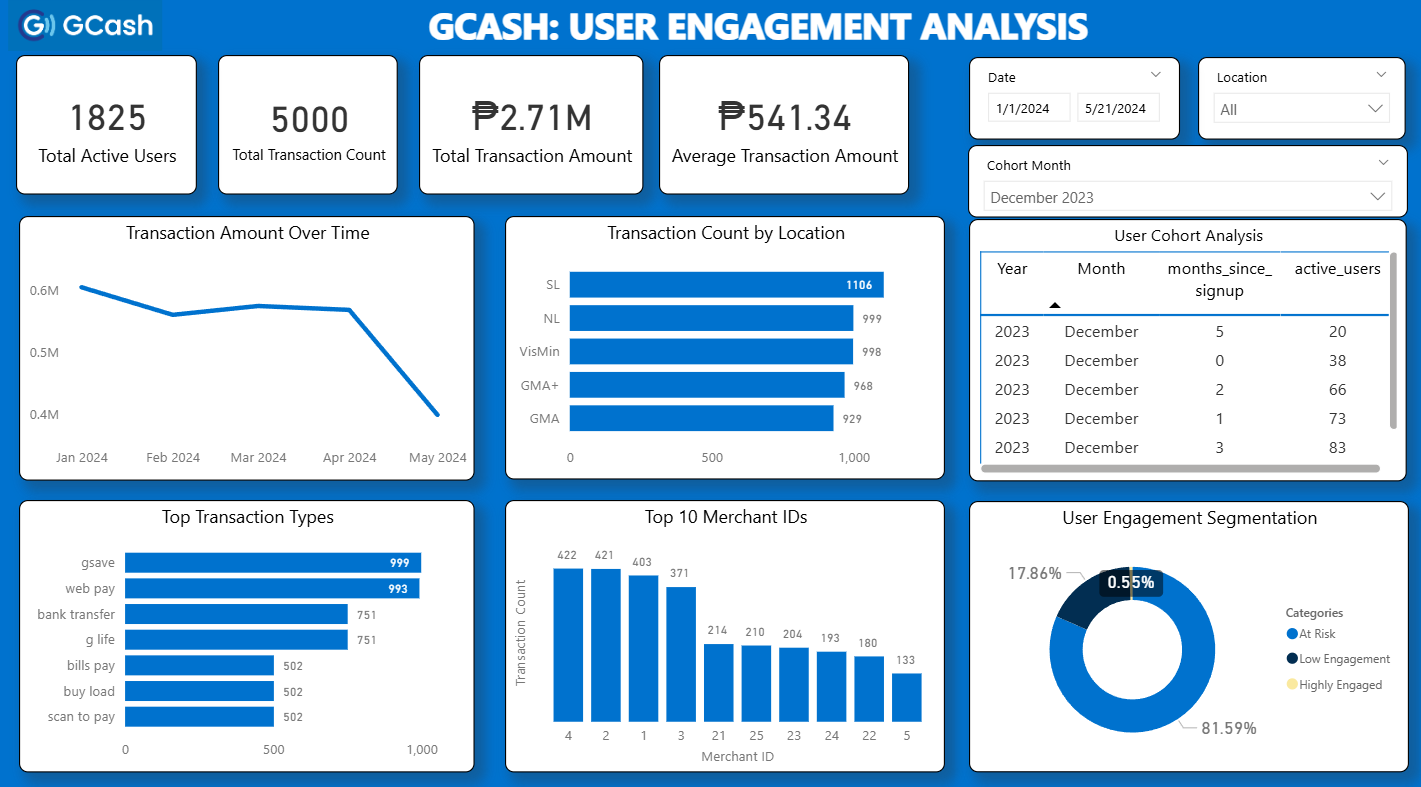

The dashboard page shown, as its layout file describes it:
{"tool":"powerbi","page":{"name":"Main Dashboard","canvas":[1280,720],"ordinal":0},"visuals":[{"type":"textbox","box":[377.9,0,608.1,54.6],"z":0},{"type":"card","fields":{"Values":["CountNonNull(gcash_data.transaction_id)"]},"box":[197.9,54.6,161.2,125.4],"z":1000},{"type":"card","fields":{"Values":["Sum(gcash_data.transaction_amount)"]},"box":[377.9,54.7,200.9,125.3],"z":2000},{"type":"tableEx","title":"User Cohort Analysis","fields":{"Values":["gcash_cohort_analysis.cohort_month.Variation.Date Hierarchy.Year","gcash_cohort_analysis.cohort_month.Variation.Date Hierarchy.Month","gcash_cohort_analysis.months_since_signup","gcash_cohort_analysis.active_users"]},"box":[870.1,201.5,391.5,235],"z":3000},{"type":"card","fields":{"Values":["Avg(gcash_data.transaction_amount)"]},"box":[592.8,54.7,223.8,125.3],"z":4000},{"type":"lineChart","title":"Transaction Amount Over Time","fields":{"Y":["Sum(gcash_data.transaction_amount)"],"Category":["gcash_data.transaction_date.Variation.Date Hierarchy.Year","gcash_data.transaction_date.Variation.Date Hierarchy.Month"]},"box":[19.9,198.9,407.8,236.7],"z":5000},{"type":"barChart","title":"Transaction Count by Location","fields":{"Category":["gcash_data.location"],"Y":["CountNonNull(gcash_data.transaction_id)"]},"box":[454.9,198.8,394,236.4],"z":6000},{"type":"barChart","title":"Top Transaction Types","fields":{"Category":["gcash_data.transaction_type"],"Y":["CountNonNull(gcash_data.transaction_id)"]},"box":[19.9,453.5,407.8,243.7],"z":7000},{"type":"donutChart","title":"User Engagement Segmentation","fields":{"Y":["CountNonNull(gcash_engagement_score.user_id)"],"Category":["gcash_engagement_score.engagement_segment"]},"box":[870,453.9,393.6,243.3],"z":8000},{"type":"slicer","fields":{"Values":["gcash_data.location"]},"box":[1075.4,56.6,185.7,74.5],"z":9000},{"type":"slicer","fields":{"Values":["gcash_data.transaction_date"]},"box":[870.9,56.6,188.7,74.5],"z":10000},{"type":"card","fields":{"Values":["Count(gcash_data.user_id)"]},"box":[16.9,54.6,161.9,125.1],"z":11000},{"type":"slicer","fields":{"Values":["gcash_cohort_analysis.cohort_month"]},"box":[870,135.4,393.6,65.4],"z":12000},{"type":"image","box":[0,0,158.5,56.4],"z":13000},{"type":"columnChart","title":"Top 10 Merchant IDs","fields":{"Category":["gcash_data.merchant_id"],"Y":["CountNonNull(gcash_data.transaction_id)"]},"box":[454.9,453.1,394,243.6],"z":14000}]}

Visuals, with their boxes in screenshot pixels (x1, y1, x2, y2), scaled from the page's 1280x720 canvas onto the 1421x787 screenshot:
textbox: pyautogui.locateOnScreen(420, 0, 1095, 60)
card - CountNonNull(gcash_data.transaction_id): pyautogui.locateOnScreen(220, 60, 399, 197)
card - Sum(gcash_data.transaction_amount): pyautogui.locateOnScreen(420, 60, 643, 197)
"User Cohort Analysis" tableEx: pyautogui.locateOnScreen(966, 220, 1401, 477)
card - Avg(gcash_data.transaction_amount): pyautogui.locateOnScreen(658, 60, 907, 197)
"Transaction Amount Over Time" lineChart: pyautogui.locateOnScreen(22, 217, 475, 476)
"Transaction Count by Location" barChart: pyautogui.locateOnScreen(505, 217, 942, 476)
"Top Transaction Types" barChart: pyautogui.locateOnScreen(22, 496, 475, 762)
"User Engagement Segmentation" donutChart: pyautogui.locateOnScreen(966, 496, 1403, 762)
slicer - gcash_data.location: pyautogui.locateOnScreen(1194, 62, 1400, 143)
slicer - gcash_data.transaction_date: pyautogui.locateOnScreen(967, 62, 1176, 143)
card - Count(gcash_data.user_id): pyautogui.locateOnScreen(19, 60, 198, 196)
slicer - gcash_cohort_analysis.cohort_month: pyautogui.locateOnScreen(966, 148, 1403, 219)
image: pyautogui.locateOnScreen(0, 0, 176, 62)
"Top 10 Merchant IDs" columnChart: pyautogui.locateOnScreen(505, 495, 942, 762)
